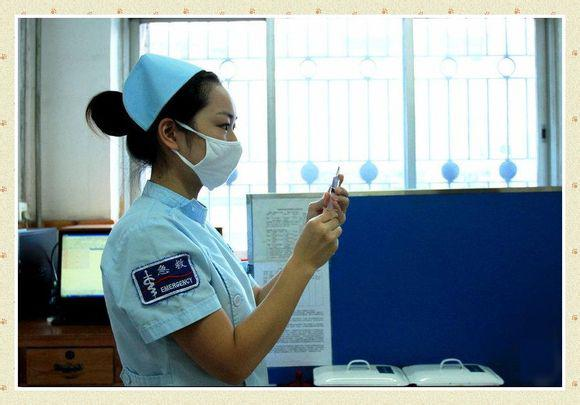OK: (162, 106, 246, 190)
